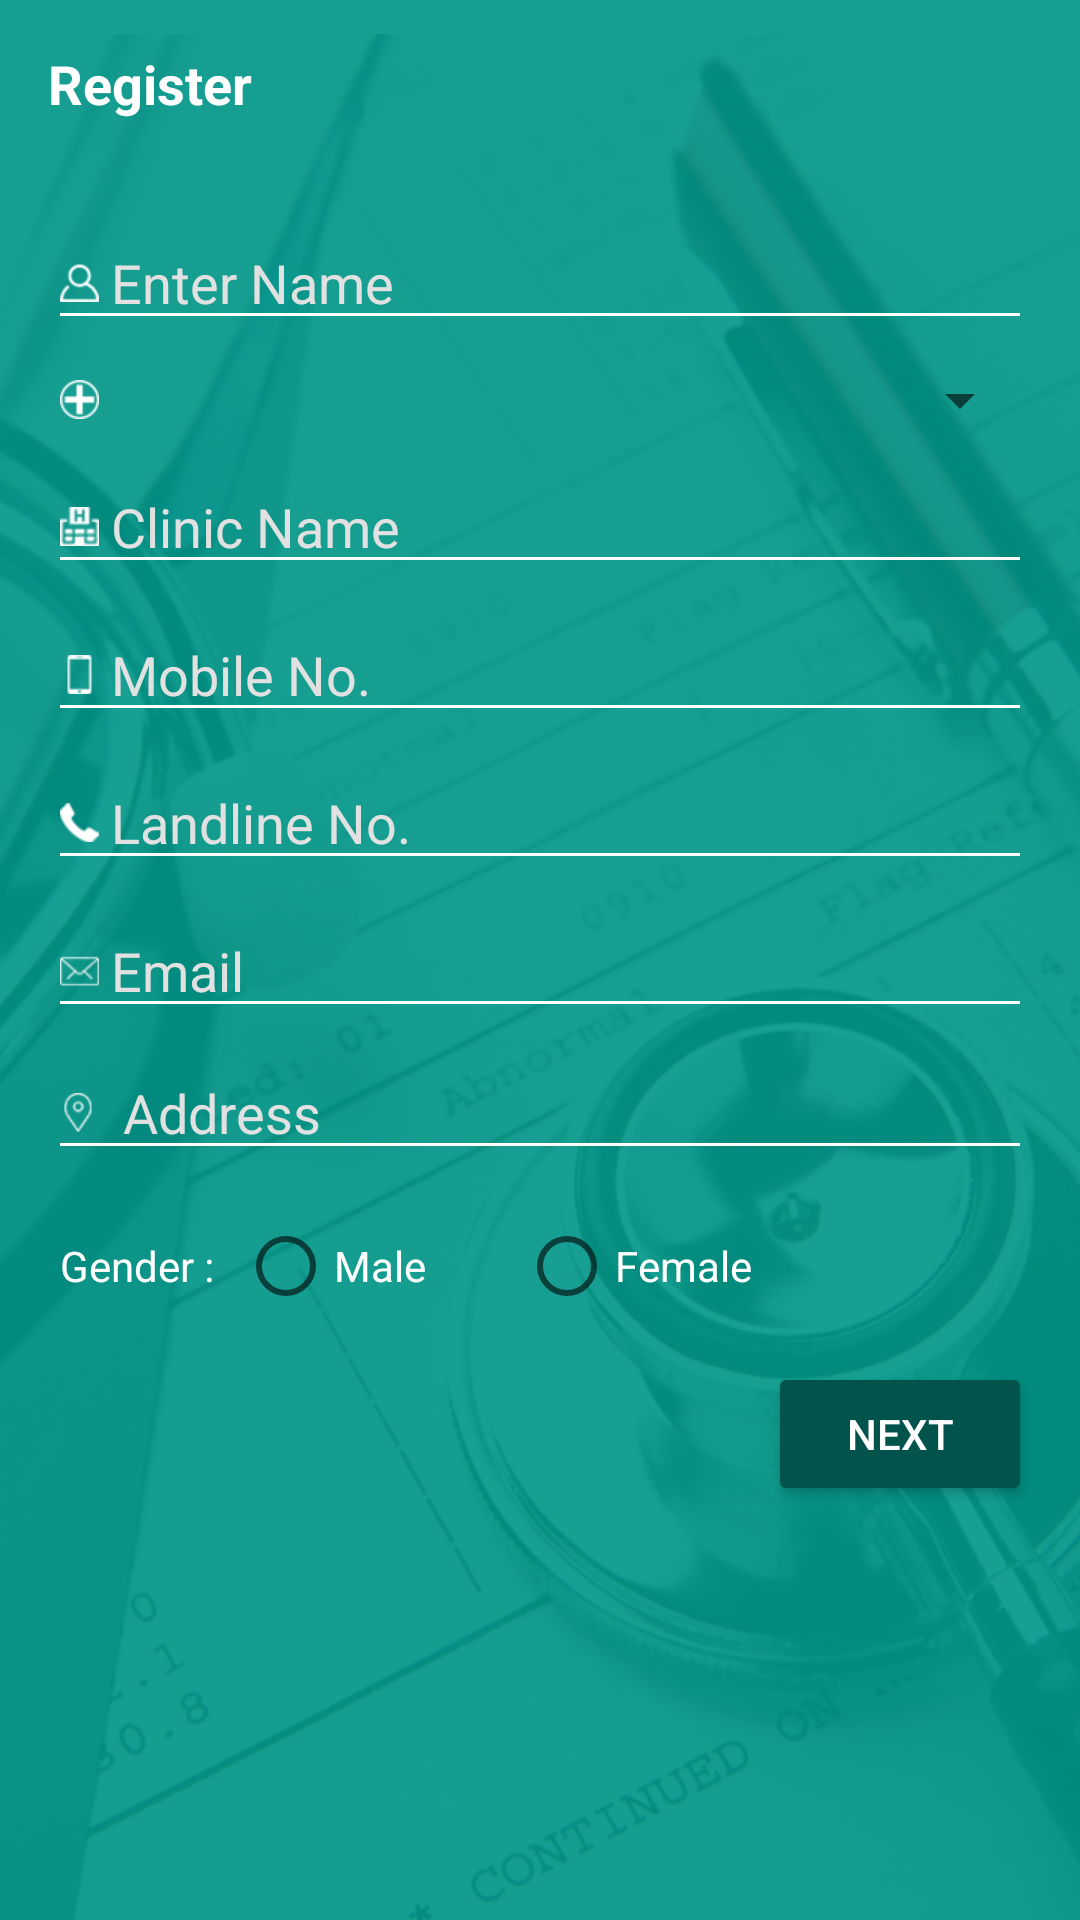

Where icons sit on this 1080*1920 app screen, as [x1, y1, x2, y2]:
clinic type: [60, 380, 99, 419]
